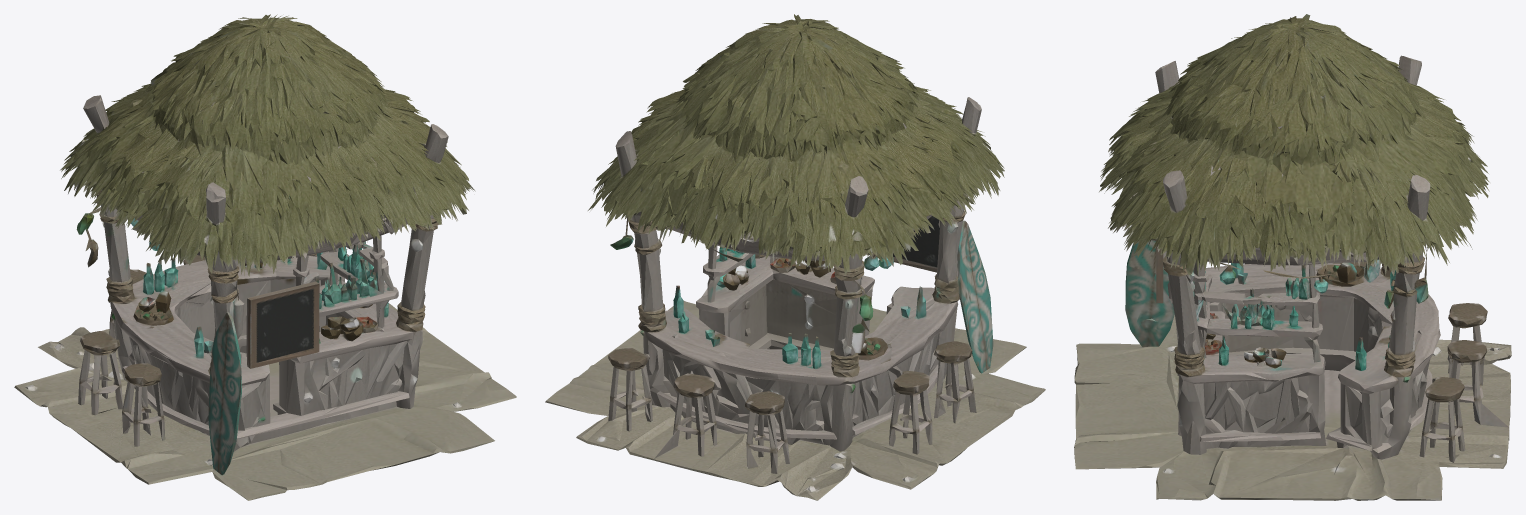
File: beach_bar.glb
3 renders of one model, left to right at view 1: azimuth 30°, elevation 25°; view 2: azimuth 150°, elevation 25°; view 3: azimuth 270°, elevation 25°, orthographic. The views are drawn at different scales.
Visible parts, largest first — view 1: Mesh_0; view 2: Mesh_0; view 3: Mesh_0.
Boxes of the visible parts, x1,y1,x2,y2 form: Mesh_0: (14,14,516,500); Mesh_0: (545,14,1045,500); Mesh_0: (1074,14,1511,500).
Bounding box in the file's own units: 1.9 × 1.84 × 1.9.
1 material, 1 textured.
